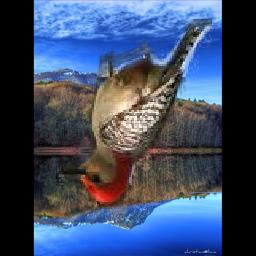Woodpecker: (58, 19, 213, 209)
